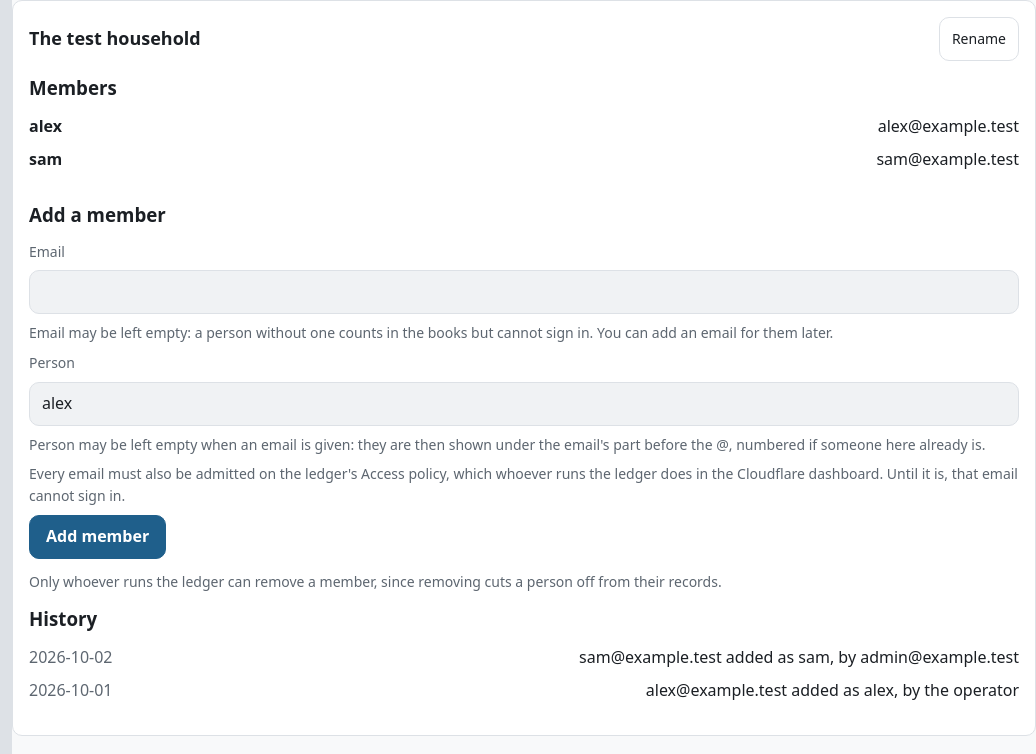
Test: the Email field may be left empty: a name alone adds a person who cannot sign in
Check: the heading "The test household" is shown, box [29,26,201,50]
Check: the text "Email may be left empty: a person without one counts in the books but cannot sign in" is shown, box [29,323,833,342]
Step 1. Replace the text in the field labelled "Person" with "Robin" → (524, 404), box [29,382,1019,426]
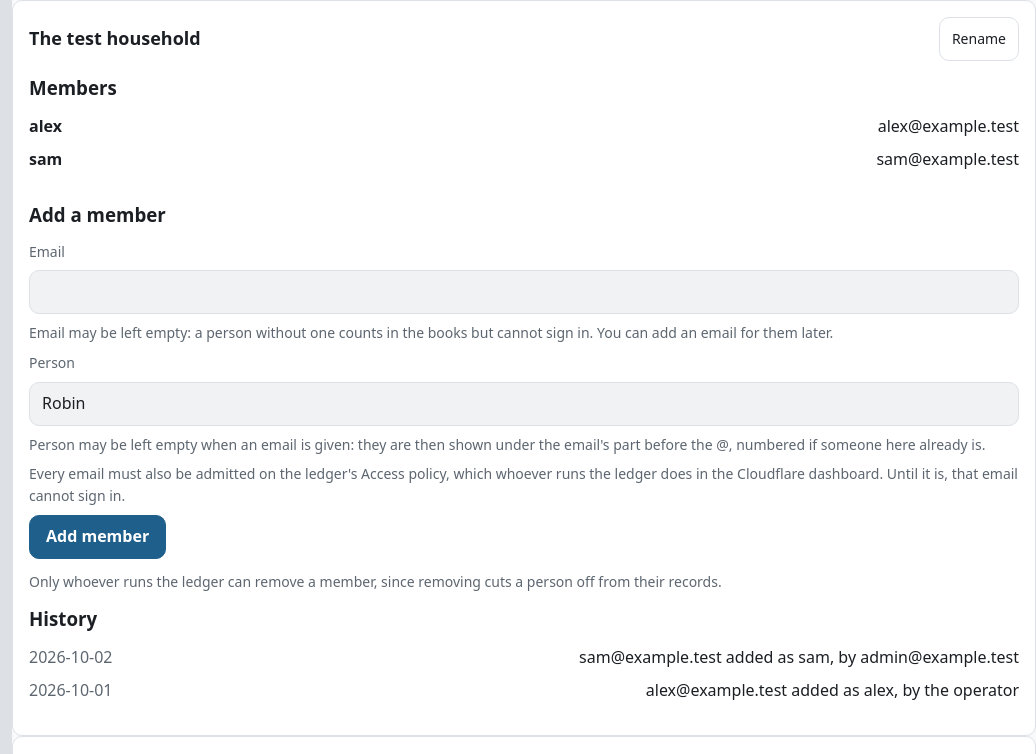
Step 2. Click the button "Add member" → click(98, 537), box [29,515,166,559]
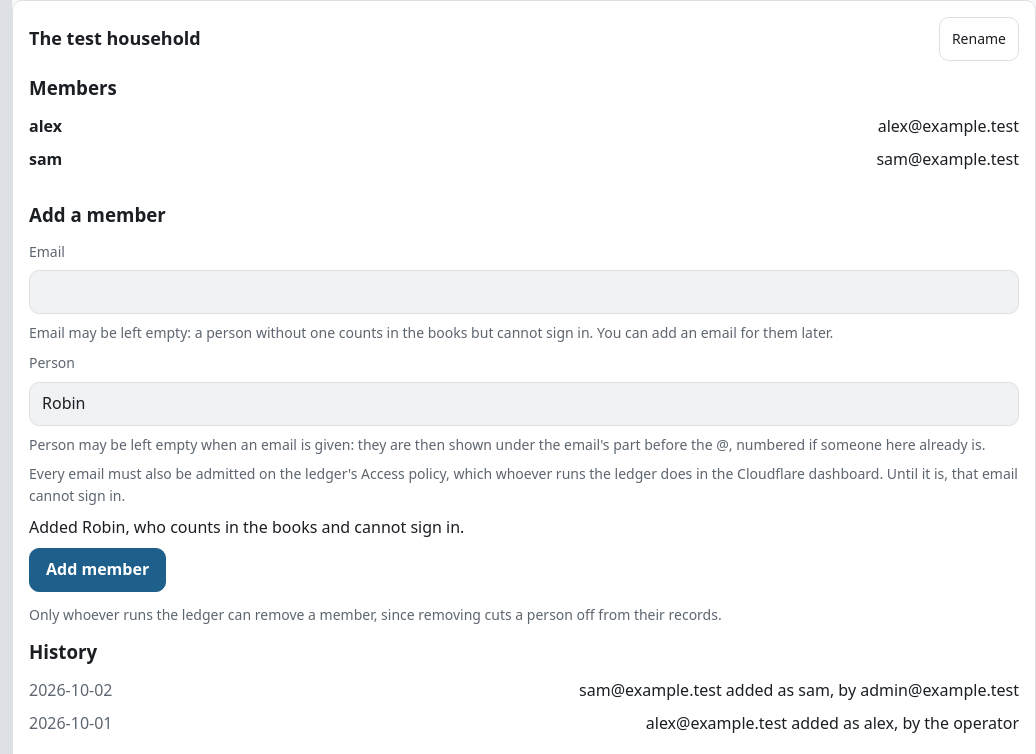
Check: the message does not show "Access"
Check: the text "Added Robin, who counts in the books and cannot sign in." is shown, box [29,516,464,538]
